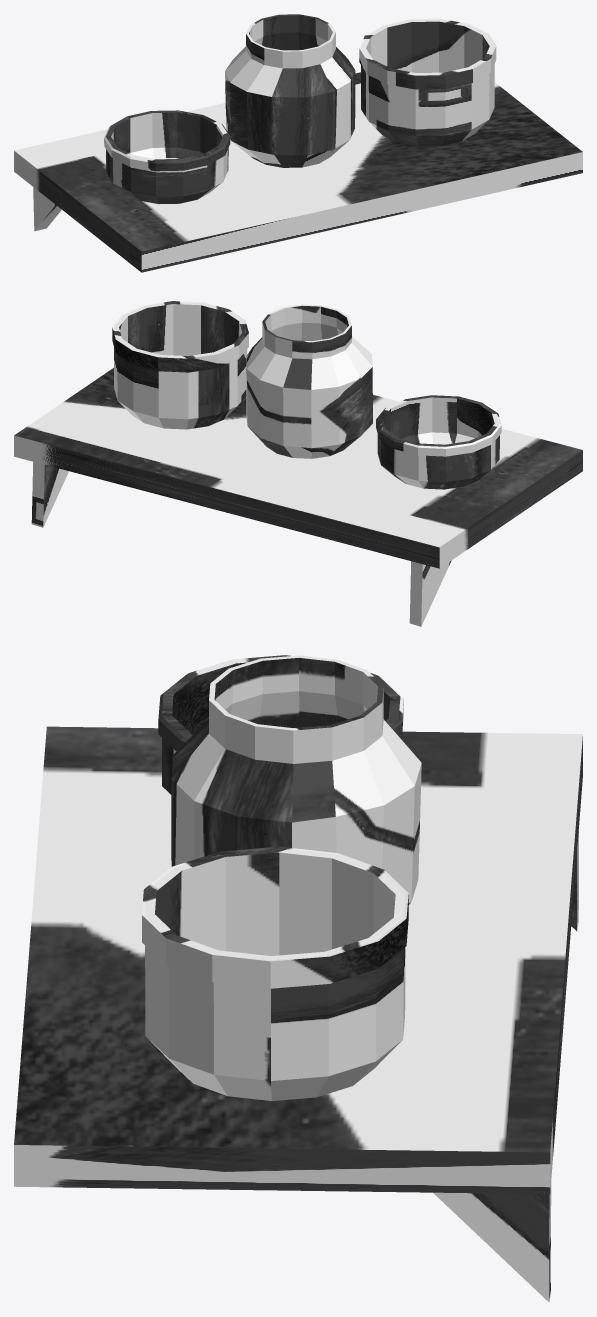
Rendered from repisa1.fbx.
3 views of the same model, one above another, from view 1: azimuth 30°, elevation 25°; view 2: azimuth 150°, elevation 25°; view 3: azimuth 270°, elevation 25° (orthographic). The views are drawn at different scales.
Visible parts, largest first — view 1: tabla, jarron, taza2, taza1, patas; view 2: tabla, jarron, taza2, taza1, patas; view 3: tabla, taza2, jarron, patas, taza1.
Boxes of the visible parts, left/top/right/bottom form: tabla: left=14, top=72, right=582, bottom=272; jarron: left=225, top=14, right=355, bottom=167; taza2: left=359, top=18, right=496, bottom=146; taza1: left=104, top=110, right=230, bottom=203; patas: left=33, top=187, right=61, bottom=231; tabla: left=14, top=368, right=582, bottom=568; jarron: left=246, top=304, right=372, bottom=458; taza2: left=112, top=301, right=248, bottom=429; taza1: left=376, top=395, right=501, bottom=489; patas: left=31, top=462, right=451, bottom=626; tabla: left=14, top=726, right=582, bottom=1194; taza2: left=142, top=846, right=408, bottom=1100; jarron: left=171, top=655, right=421, bottom=904; patas: left=433, top=829, right=578, bottom=1302; taza1: left=158, top=655, right=403, bottom=794.
Bounding box in the file's own units: 203 × 90.63 × 115.
